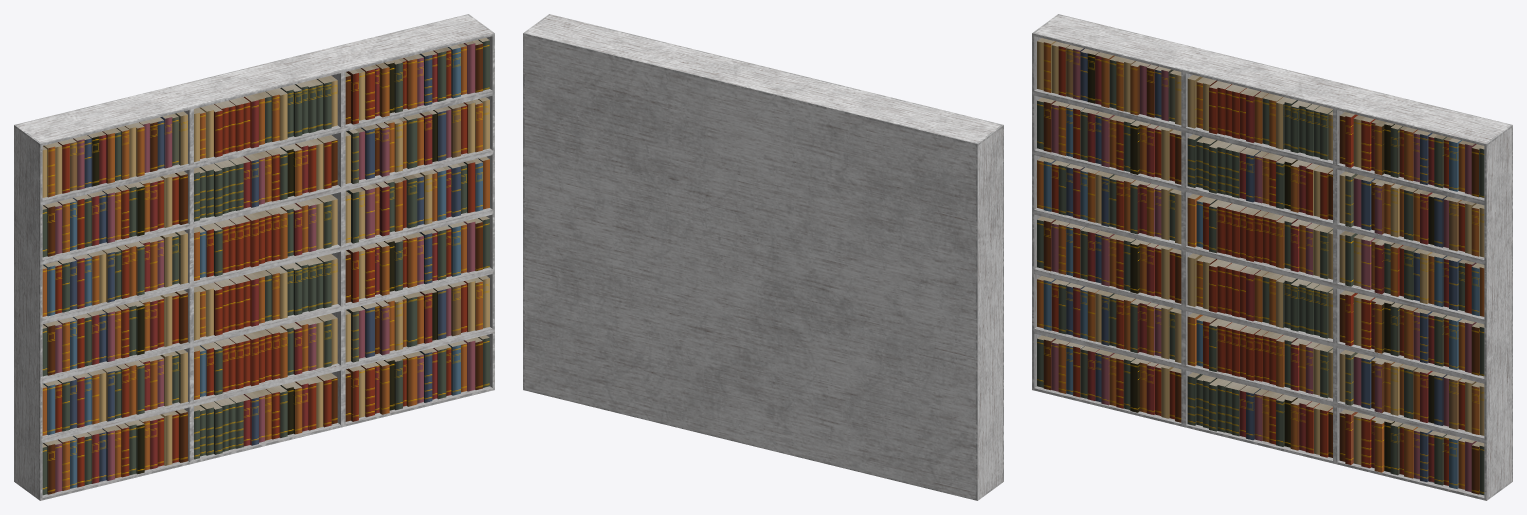
The model's file is bookshelf.glb.
3 renders of one model, left to right at view 1: azimuth 30°, elevation 25°; view 2: azimuth 150°, elevation 25°; view 3: azimuth 330°, elevation 25°, orthographic.
Parts seen in each view (by area): view 1: Bookcast_GEO, bool_p_1_2, bool_p_1_6, bool_p_1_12, bool_p_1_9, bool_p_1_15, bool_p_1_3, bool_p_3, bool_p_11, bool_p_7, bool_p_1, bool_p_5 (+25 smaller); view 2: Bookcast_GEO; view 3: Bookcast_GEO, bool_p_11, bool_p_3, bool_p_1, bool_p_7, bool_p_5, bool_p_9, bool_p_1_9, bool_p_1_15, bool_p_1_3, bool_p_1_2, bool_p_1_6 (+25 smaller).
Part boxes in pixels (<box>): Bookcast_GEO: <box>14,14,494,500</box>; bool_p_1_2: <box>42,410,187,495</box>; bool_p_1_6: <box>42,291,187,376</box>; bool_p_1_12: <box>42,173,187,257</box>; bool_p_1_9: <box>42,232,187,316</box>; bool_p_1_15: <box>42,113,187,197</box>; bool_p_1_3: <box>42,351,187,435</box>; bool_p_3: <box>345,277,489,362</box>; bool_p_11: <box>345,39,489,124</box>; bool_p_7: <box>345,158,489,243</box>; bool_p_1: <box>345,337,489,421</box>; bool_p_5: <box>345,218,489,302</box>; Bookcast_GEO: <box>523,14,1003,500</box>; Bookcast_GEO: <box>1032,14,1512,500</box>; bool_p_11: <box>1339,114,1484,197</box>; bool_p_3: <box>1339,352,1484,435</box>; bool_p_1: <box>1339,412,1484,495</box>; bool_p_7: <box>1339,233,1484,316</box>; bool_p_5: <box>1339,293,1484,376</box>; bool_p_9: <box>1339,174,1484,257</box>; bool_p_1_9: <box>1037,160,1181,243</box>; bool_p_1_15: <box>1037,41,1181,125</box>; bool_p_1_3: <box>1037,279,1181,362</box>; bool_p_1_2: <box>1037,338,1181,422</box>; bool_p_1_6: <box>1037,219,1181,303</box>.
Bounding box in the file's own units: 0.4 × 0.3 × 0.04.
Materials: 5 (5 with a texture image).
